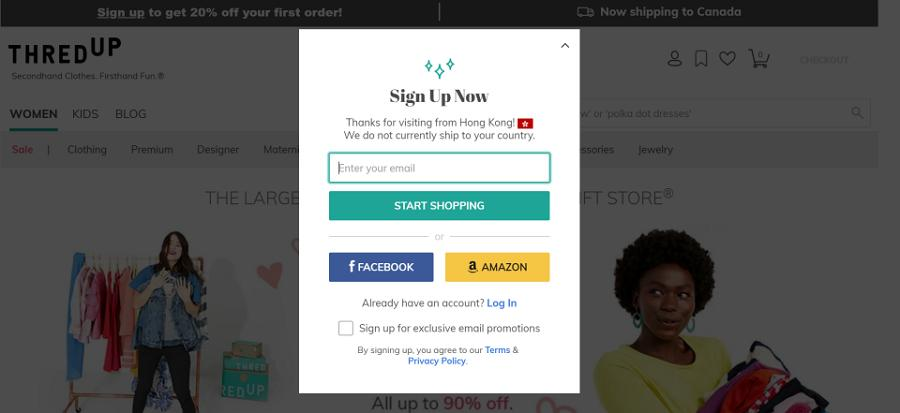button: (326, 187, 554, 224), (324, 248, 441, 287), (440, 249, 555, 288)
checkbox: (333, 316, 356, 340)
textbox: (322, 148, 557, 187)
